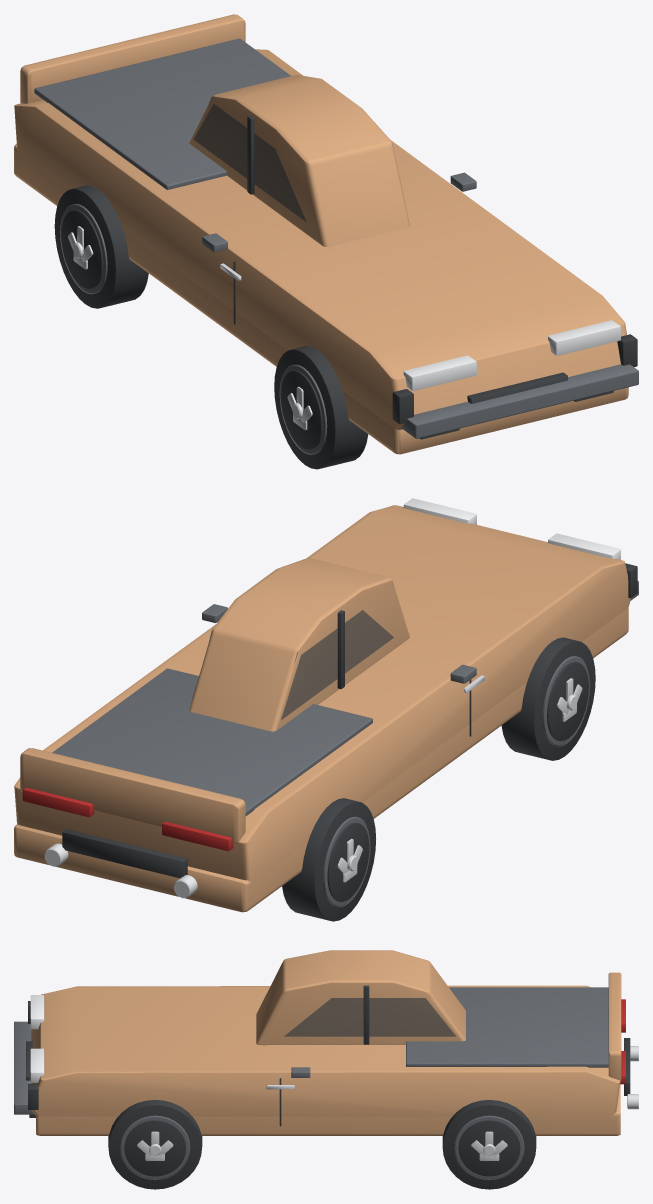
The model's file is dune-breaker.glb.
3 views of the same model, one above another, from view 1: azimuth 30°, elevation 25°; view 2: azimuth 150°, elevation 25°; view 3: azimuth 270°, elevation 25° (orthographic). The views are drawn at different scales.
Visible parts, largest first — view 1: paint, accent, trim, glass, head, rim; view 2: paint, accent, trim, glass, rim, tail, head; view 3: paint, accent, trim, glass, rim, head.
Boxes of the visible parts, bbox=[...] form: paint: bbox=[14, 14, 628, 454]; accent: bbox=[34, 38, 638, 454]; trim: bbox=[54, 115, 637, 469]; glass: bbox=[193, 97, 306, 221]; head: bbox=[403, 320, 620, 390]; rim: bbox=[68, 226, 312, 430]; paint: bbox=[14, 505, 631, 912]; accent: bbox=[52, 581, 638, 906]; trim: bbox=[62, 563, 637, 921]; glass: bbox=[192, 610, 393, 719]; rim: bbox=[44, 675, 582, 898]; tail: bbox=[22, 787, 233, 851]; head: bbox=[403, 498, 620, 559]; paint: bbox=[31, 950, 621, 1135]; accent: bbox=[14, 987, 608, 1179]; trim: bbox=[26, 985, 630, 1189]; glass: bbox=[284, 998, 455, 1036]; rim: bbox=[137, 1046, 638, 1160]; head: bbox=[30, 995, 44, 1082].
Bounding box in the file's own units: 2.3 × 1.82 × 5.86.
